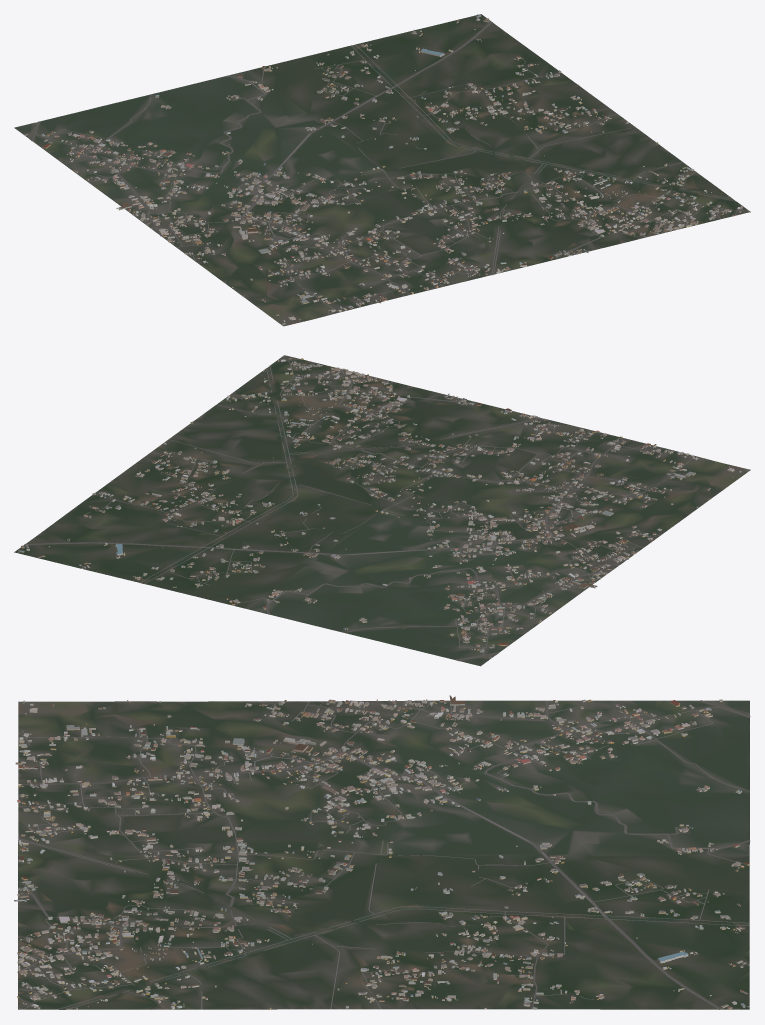
3 views of the same model, one above another, from view 1: azimuth 30°, elevation 25°; view 2: azimuth 150°, elevation 25°; view 3: azimuth 270°, elevation 25° (orthographic). The views are drawn at different scales.
Parts seen in each view (by area): view 1: ground, buildings, roads; view 2: ground, buildings, roads; view 3: ground, buildings, roads.
Part boxes in pixels (bbox=[...]): ground: bbox=[14, 14, 750, 326]; buildings: bbox=[24, 14, 742, 324]; roads: bbox=[31, 21, 748, 312]; ground: bbox=[14, 355, 750, 666]; buildings: bbox=[17, 357, 747, 658]; roads: bbox=[24, 355, 694, 660]; ground: bbox=[18, 700, 749, 1009]; buildings: bbox=[14, 695, 749, 1009]; roads: bbox=[17, 700, 750, 1009].
Size of the model in its own units: 2839 by 19.93 by 2821.
